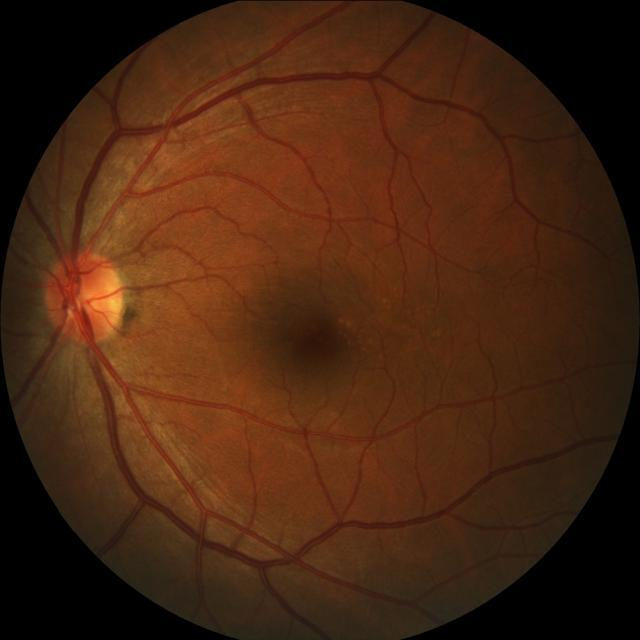OC: (60, 280, 101, 322)
OD: (46, 250, 123, 344)
